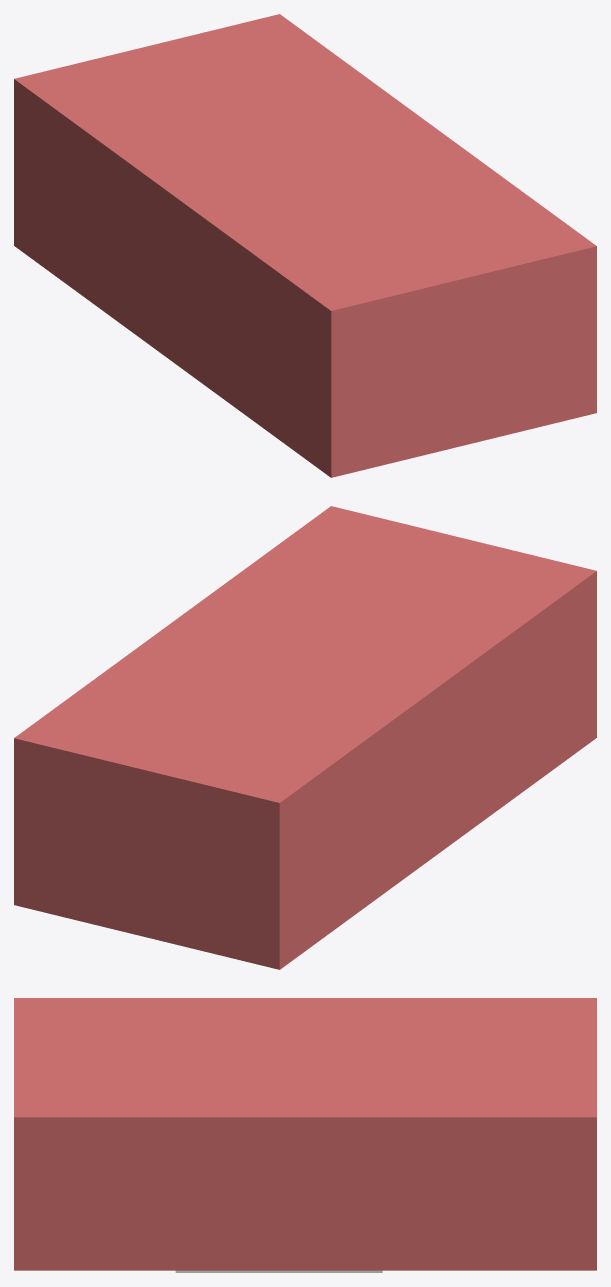
Rendered from city_red_vending_machine.glb.
3 views of the same model, one above another, from view 1: azimuth 30°, elevation 25°; view 2: azimuth 150°, elevation 25°; view 3: azimuth 270°, elevation 25° (orthographic). The views are drawn at different scales.
Parts seen in each view (by area): view 1: machine_body; view 2: machine_body; view 3: machine_body, button_panel.
Boxes of the visible parts, <box> form: machine_body: <box>14,14,596,477</box>; machine_body: <box>14,506,596,969</box>; machine_body: <box>14,998,596,1270</box>; button_panel: <box>175,1270,382,1272</box>.
Size of the model in its own units: 0.75 by 0.4825 by 1.55.
